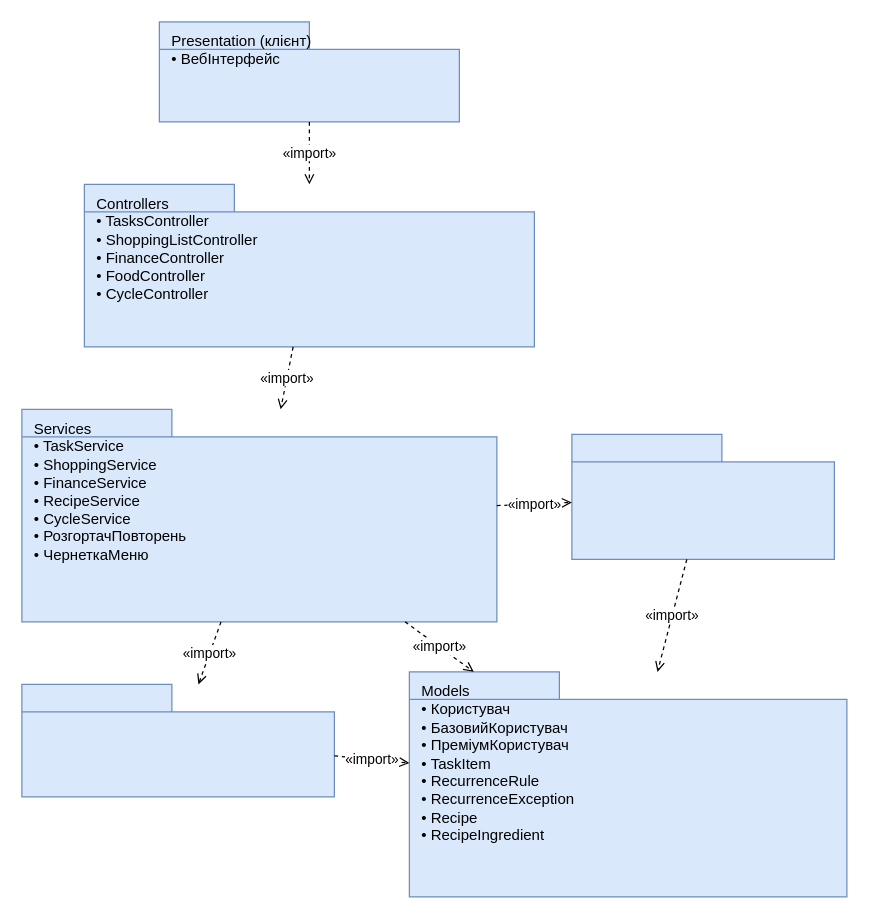
This 869x919 diagram has some shape labels left out. Here are the shapes that lost their labels. From the top down, the centre of each, then its label:
(x=702, y=496): RuleEngine • RuleEngine
(x=177, y=740): Data • AppDbContext
